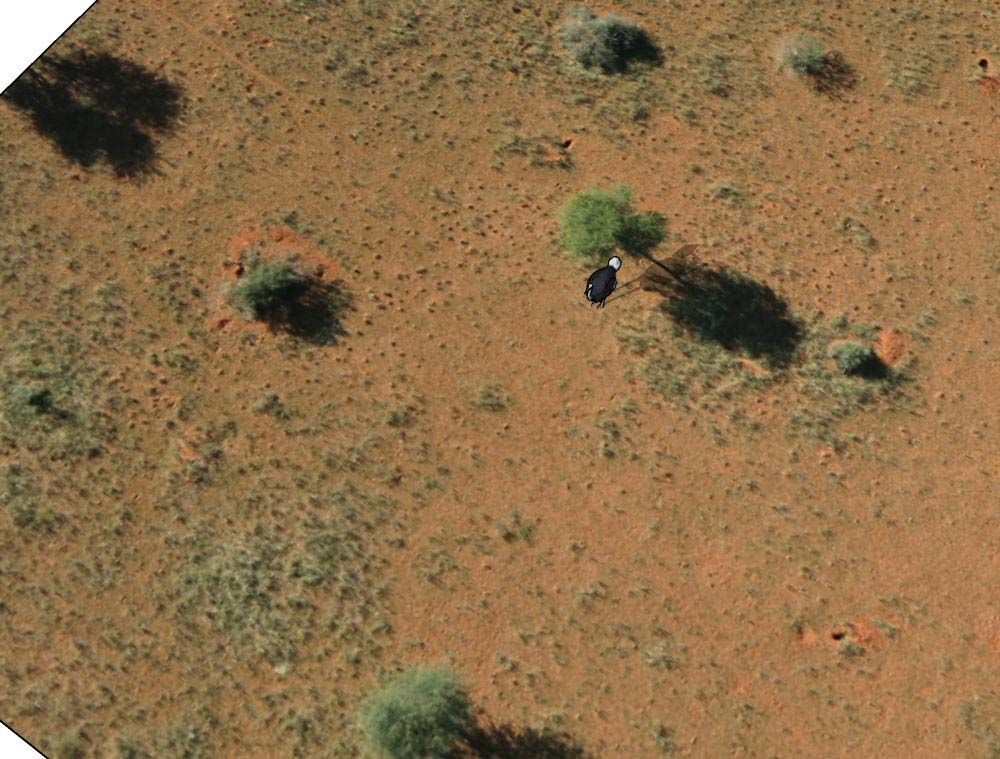springbok: (583, 254, 625, 311)
